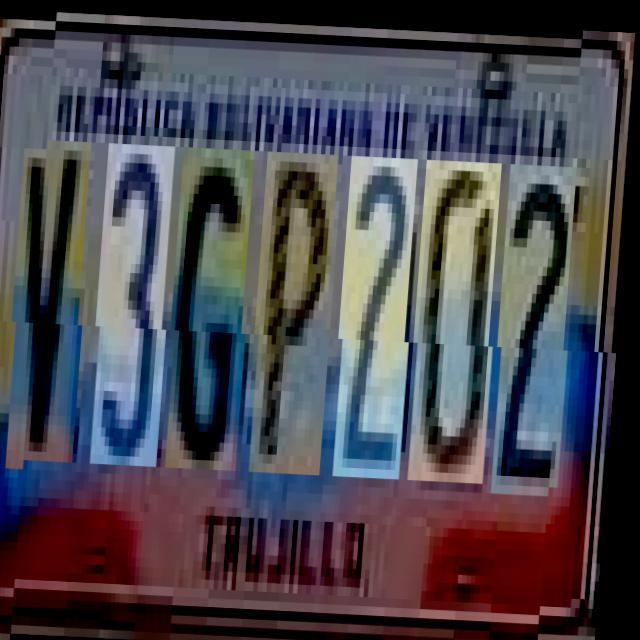0: (414, 155, 508, 478)
2: (498, 158, 584, 491), (340, 152, 424, 475)
3: (96, 142, 182, 465)
G: (172, 145, 261, 468)
P: (256, 148, 345, 472)
V: (13, 138, 98, 462)
